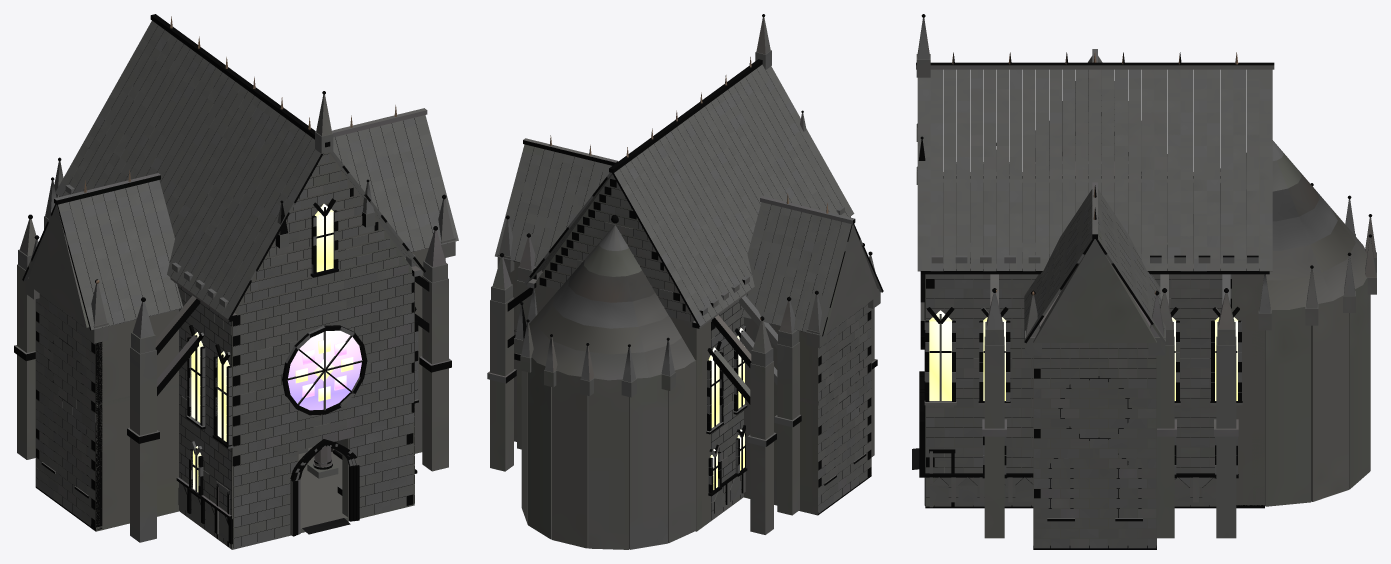
The model's file is gothic_main.glb.
3 views of the same model, side by side, from view 1: azimuth 30°, elevation 25°; view 2: azimuth 150°, elevation 25°; view 3: azimuth 270°, elevation 25° (orthographic). The views are drawn at different scales.
Visible parts, largest first — view 1: main, glow; view 2: main, glow; view 3: main, glow.
Boxes of the visible parts, x1,y1,x2,y2 form: main: (14, 14, 458, 549); glow: (191, 204, 361, 491); main: (487, 14, 883, 549); glow: (708, 328, 744, 489); main: (912, 14, 1376, 549); glow: (929, 310, 1237, 400).
Bounding box in the file's own units: 28.4 × 32.03 × 30.09.
5 materials, 1 textured.
